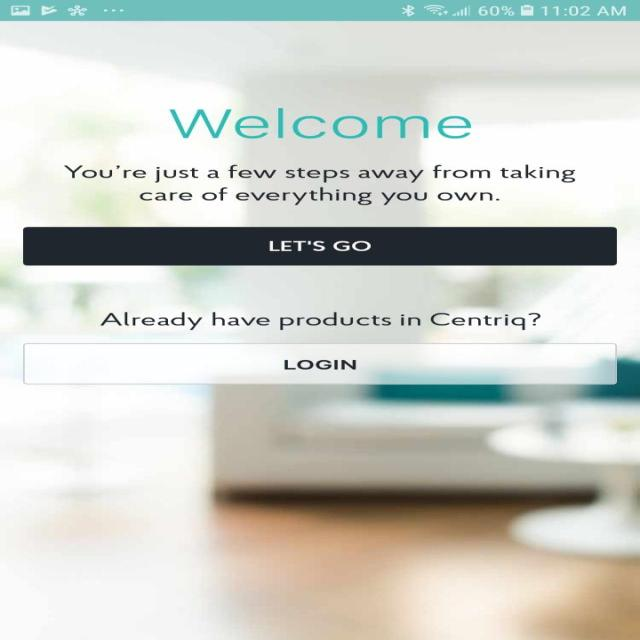BackgroundImage: (0, 21, 639, 640)
Text: (63, 164, 575, 205), (169, 108, 471, 139), (100, 312, 540, 330)
TextButton: (23, 343, 617, 384), (23, 227, 617, 266)
